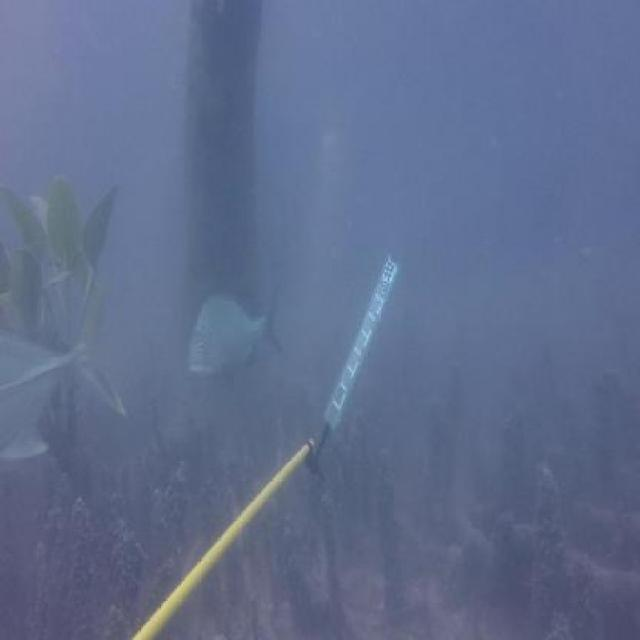Caranx: (0, 282, 131, 466)
acanthopagrus_palmaris: (188, 279, 286, 384)
